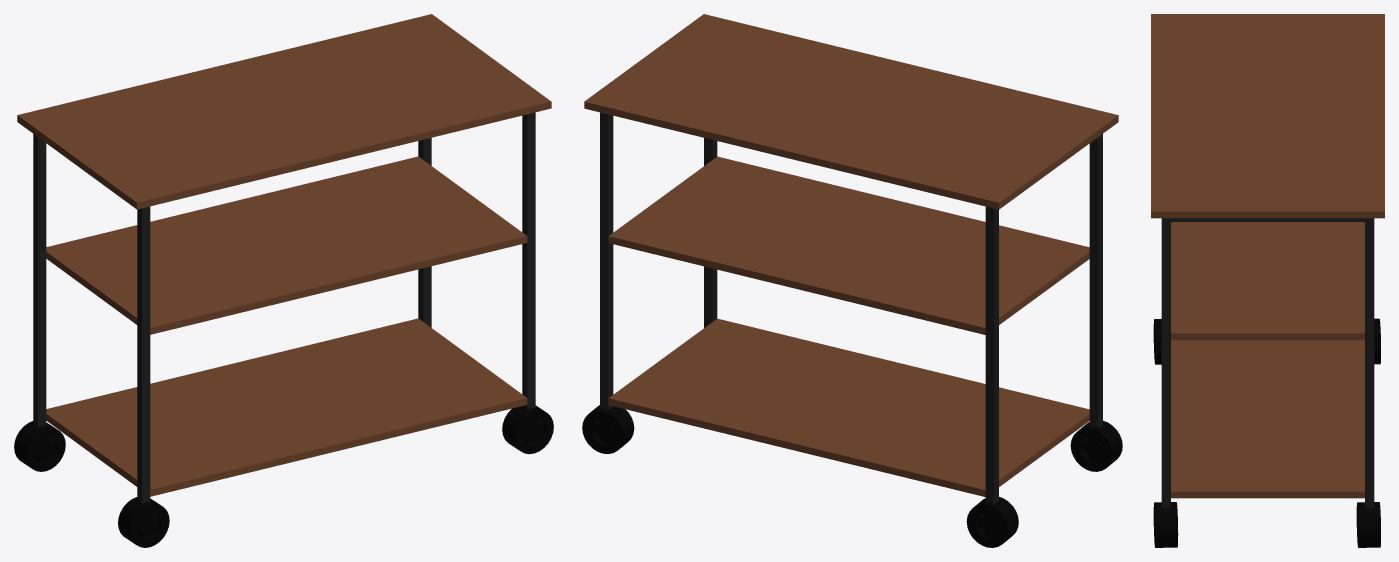
File: Trolley_07.glb
3 views of the same model, side by side, from view 1: azimuth 30°, elevation 25°; view 2: azimuth 150°, elevation 25°; view 3: azimuth 270°, elevation 25° (orthographic). The views are drawn at different scales.
Visible parts, largest first — view 1: Mesh_Trolley_07; view 2: Mesh_Trolley_07; view 3: Mesh_Trolley_07.
Part boxes in pixels (<box>): Mesh_Trolley_07: <box>14,14,553,547</box>; Mesh_Trolley_07: <box>582,14,1122,547</box>; Mesh_Trolley_07: <box>1151,14,1384,547</box>.
Bounding box in the file's own units: 0.9037 × 0.7093 × 0.44.
1 material, 1 textured.
